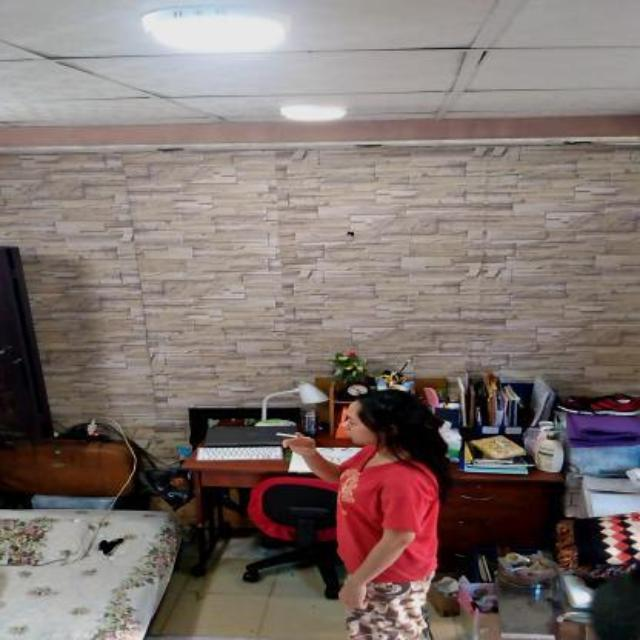rokok: (273, 431, 303, 439)
